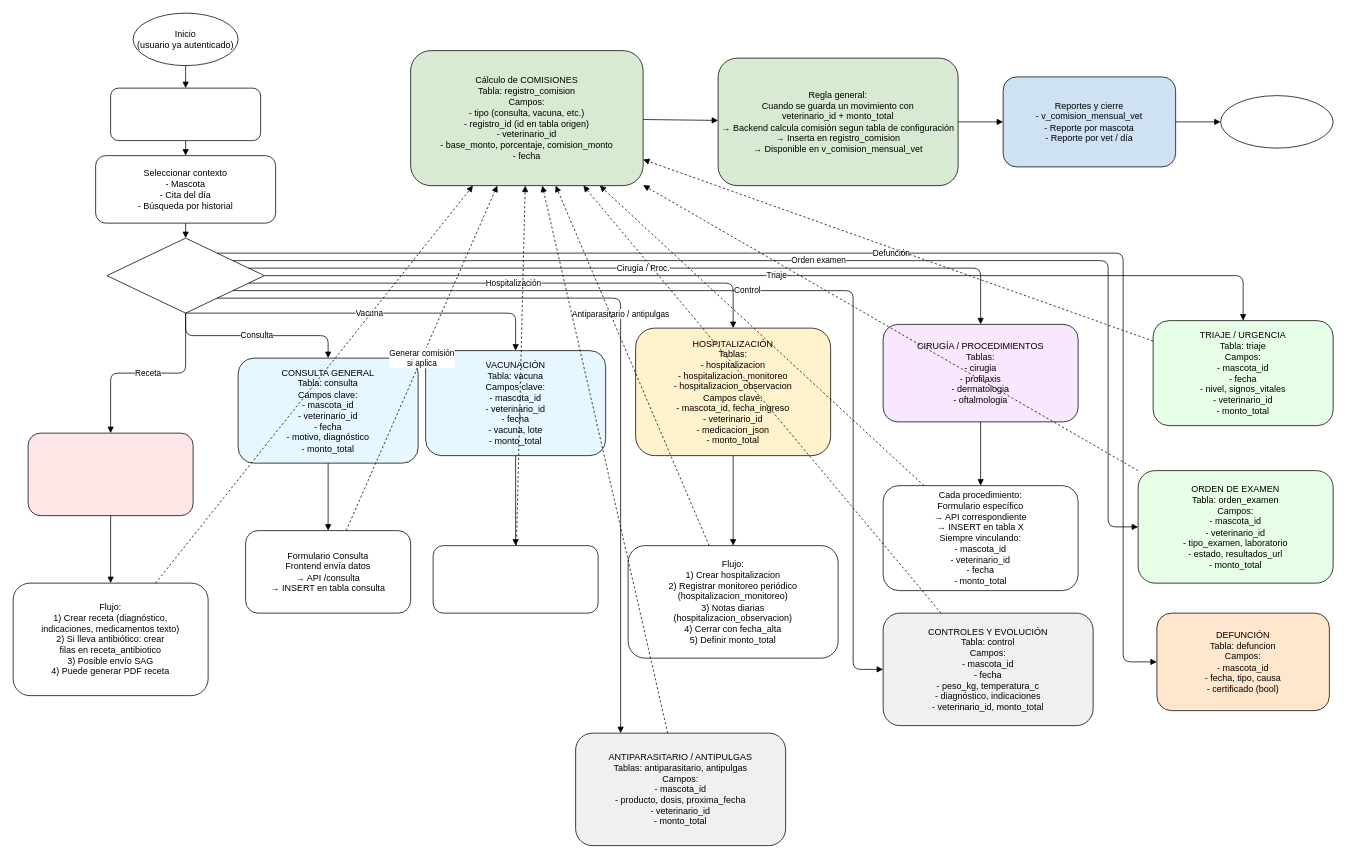
Image size: 1346x859. Some labels were removed from this diagram. Each missing label, with the centre of its shape:
Fin flujo movimientos: pixel 1276 121
Formulario Vacuna → API /vacunas → INSERT en tabla vacuna: pixel 515 579
Panel clínico Roles: vet / admin: pixel 185 114
RECETA / ANTIBIÓTICO Tablas: - receta - receta_antibiotico: pixel 110 474
¿Qué tipo de movimiento se desea registrar?: pixel 185 275
